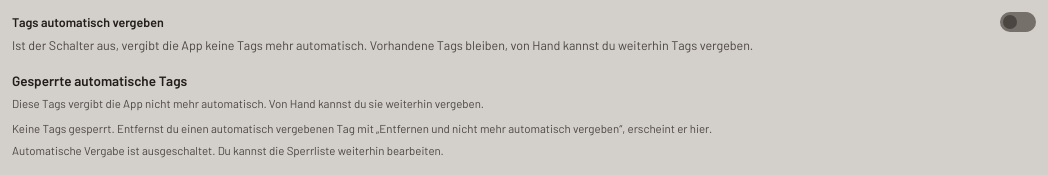
Test: reads and writes the switch through the web commands
This screenshot has width=1048, height=175.
Click the switch named "Tags automatisch vergeben" at point(1018, 22), box 1000,12 -> 1036,32
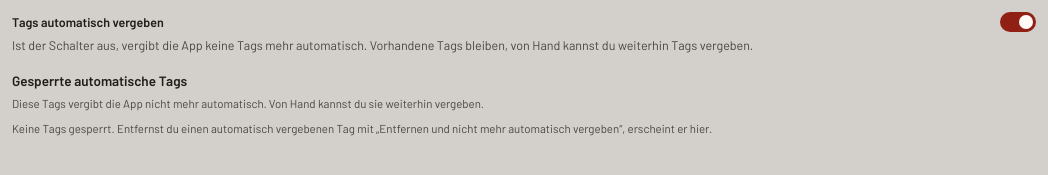
Expected: the text "Automatische Vergabe ist ausgeschaltet. Du kannst die Sperrliste weiterhin bearbeiten." is gone
